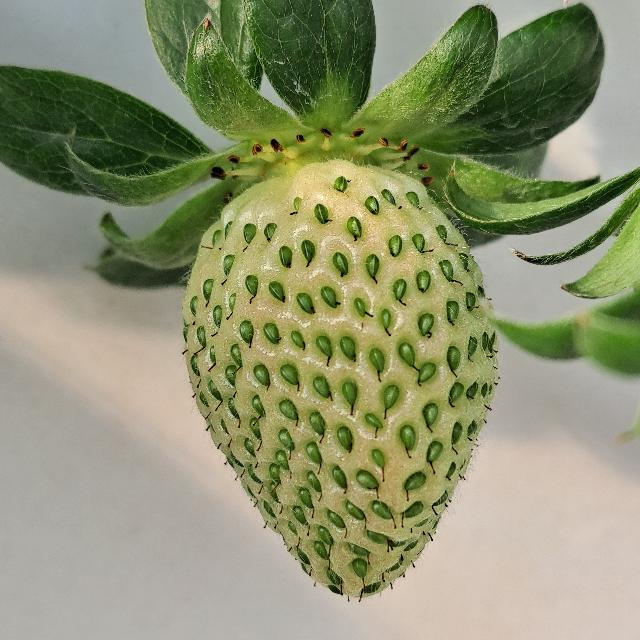Health_25: (182, 158, 498, 598)
